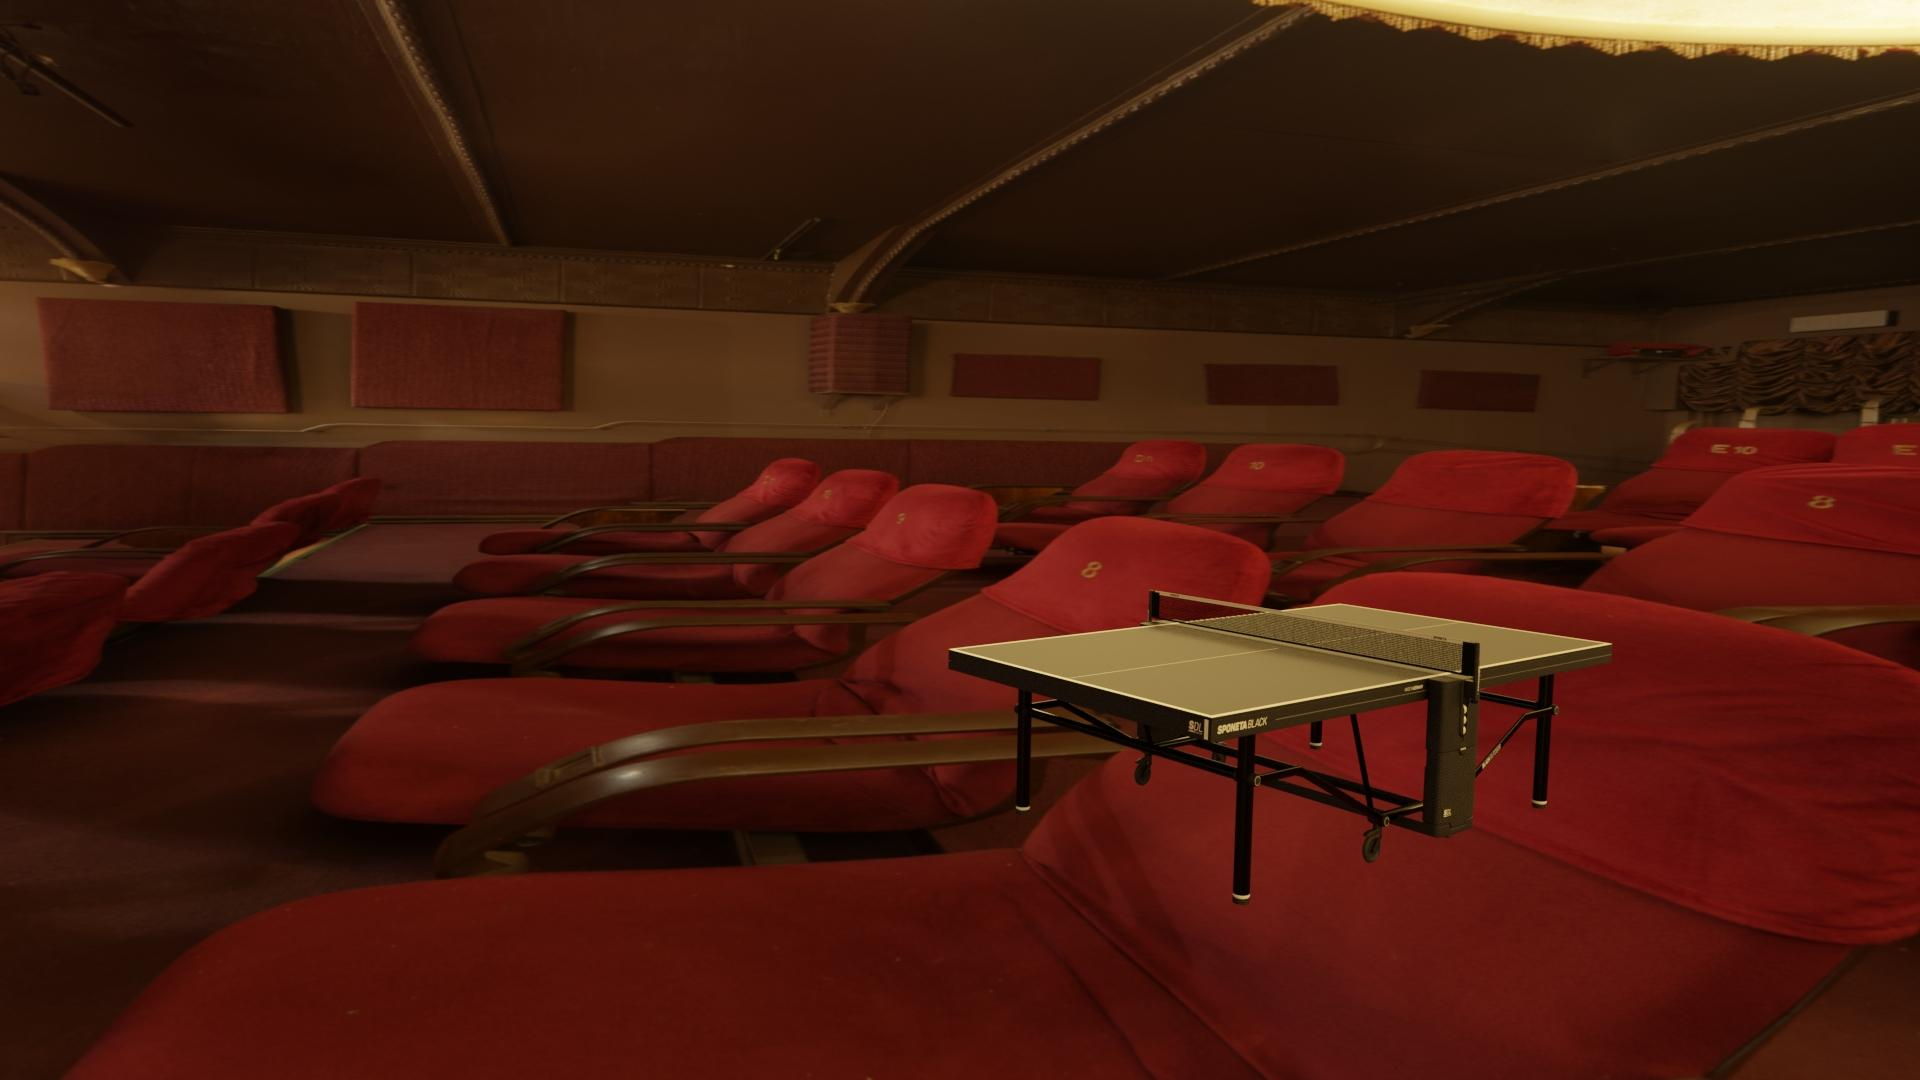table: (955, 604, 1606, 716)
